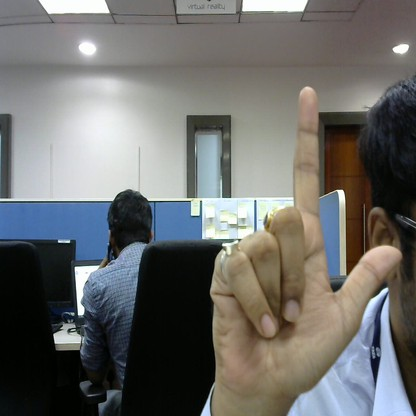l: (198, 86, 404, 403)
